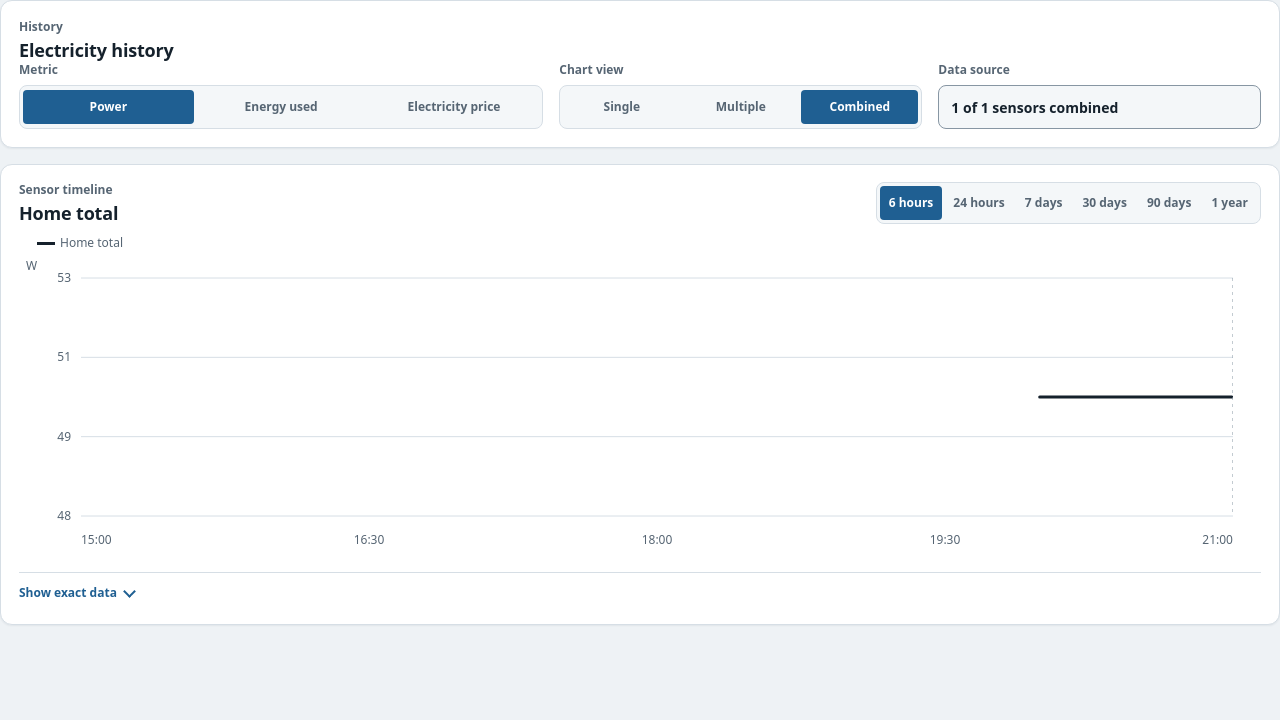
ElectricityHistory combined coverage › does not add a submeter to the whole-home chart
Expected: the text "1 of 1 sensors combined" is shown, [938, 85, 1261, 129]
Click the heading "Show exact data" at (76,593), box [19, 573, 134, 613]
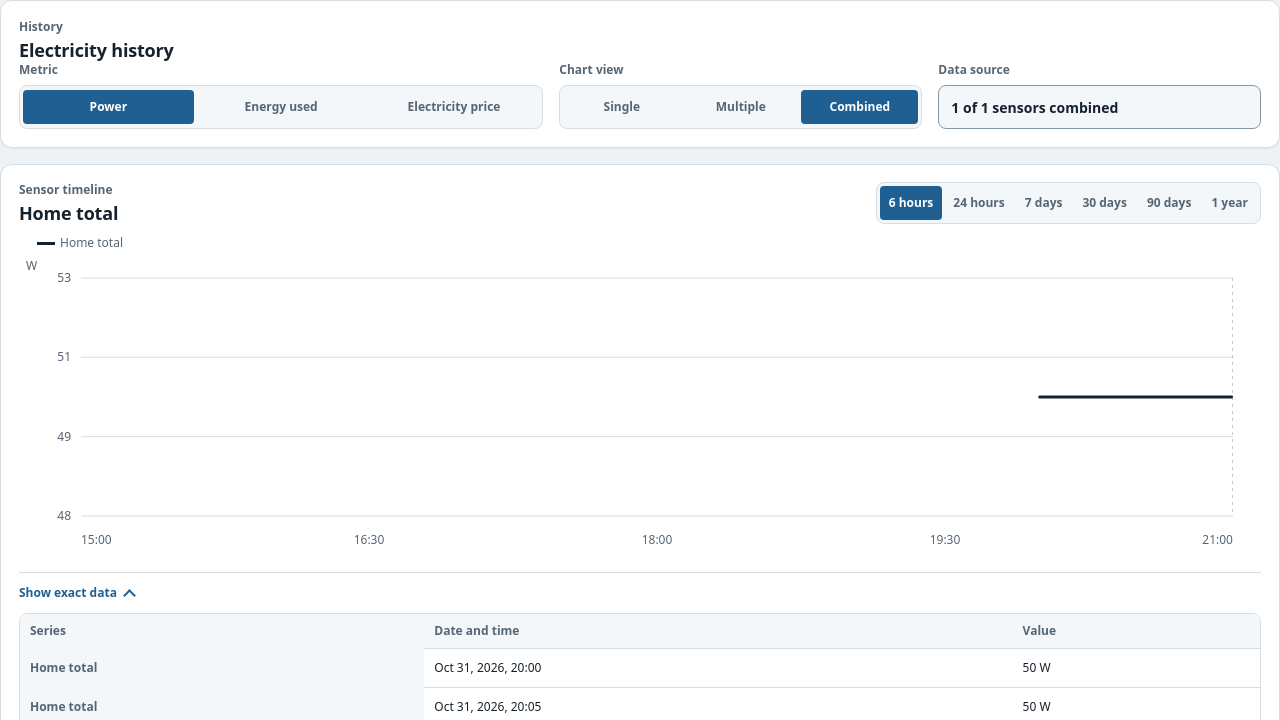
Expected: the text "50 W" in the row of "Oct 31, 2026, 20:00" is shown, [1023, 659, 1051, 676]
